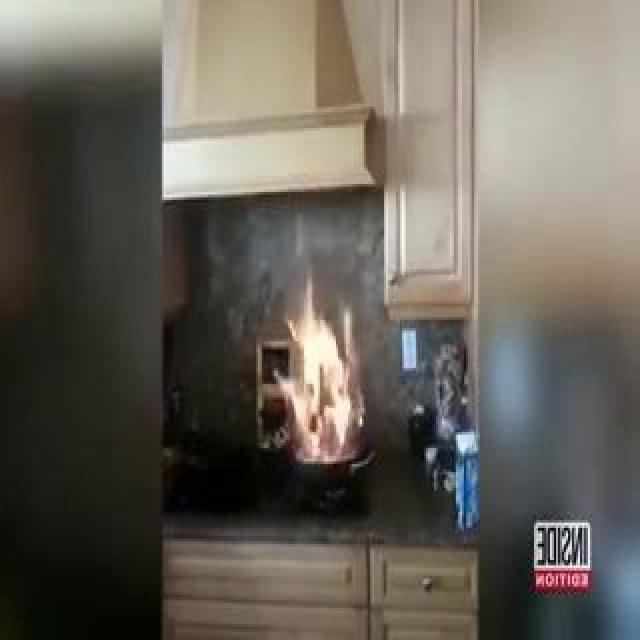Fire: (277, 232, 367, 472)
